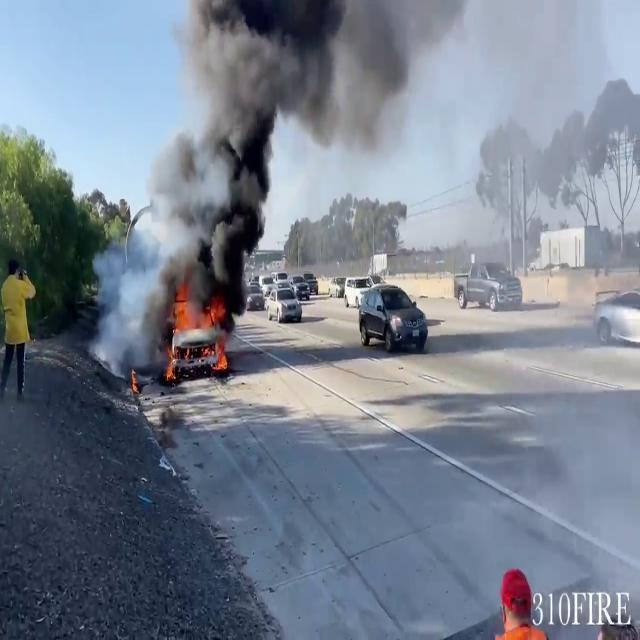Fire: (164, 286, 230, 376)
Smoke: (164, 0, 351, 316), (90, 203, 176, 384)
